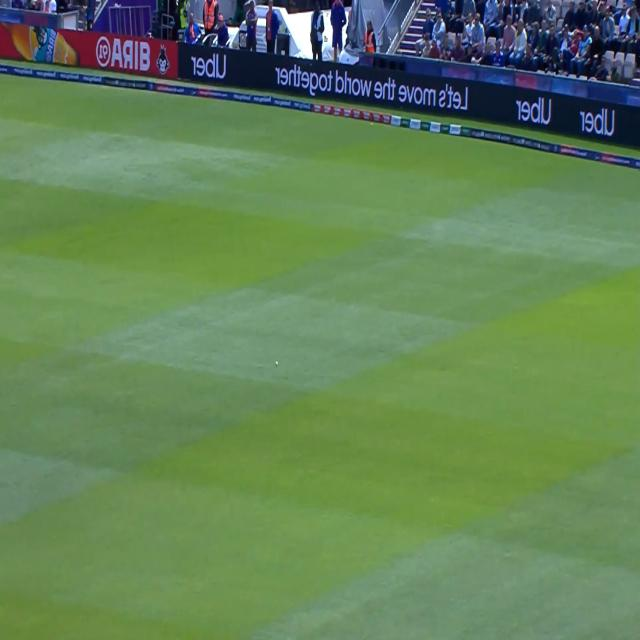ball: (272, 354, 280, 370)
